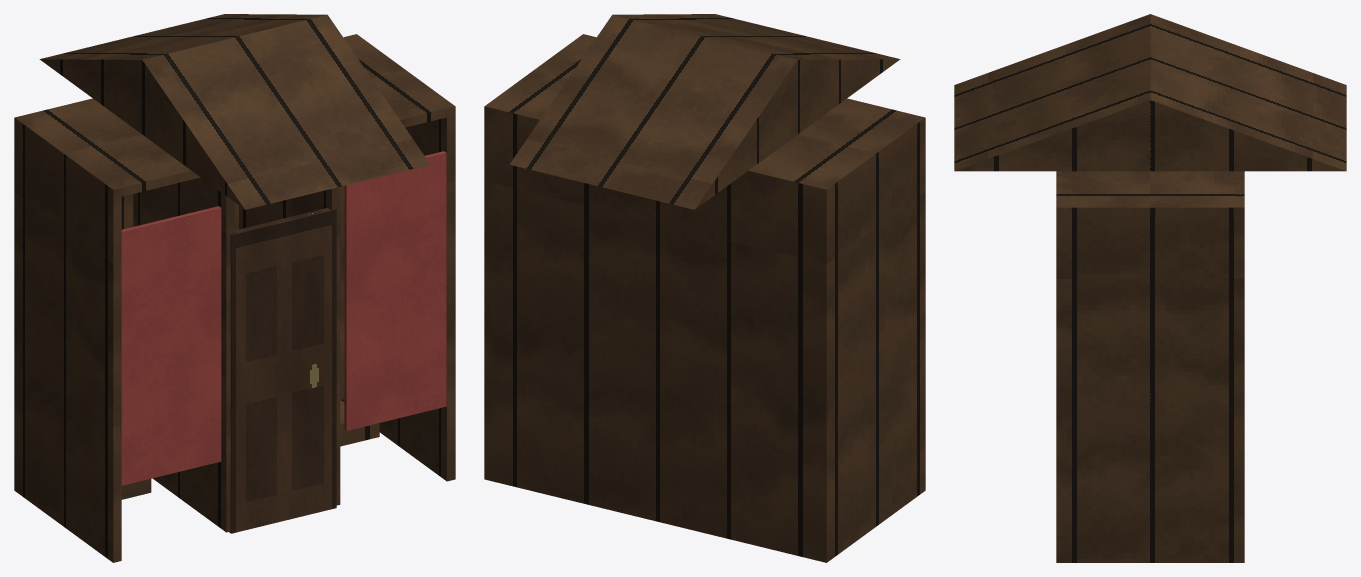
File: int_confession_booth.glb
3 views of the same model, side by side, from view 1: azimuth 30°, elevation 25°; view 2: azimuth 150°, elevation 25°; view 3: azimuth 270°, elevation 25° (orthographic). The views are drawn at different scales.
Parts seen in each view (by area): view 1: booth-col, detail; view 2: booth-col, detail; view 3: booth-col, detail.
Boxes of the visible parts, x1=… form: booth-col: x1=14, y1=34, x2=455, y2=562; detail: x1=39, y1=14, x2=446, y2=499; booth-col: x1=484, y1=34, x2=925, y2=562; detail: x1=509, y1=14, x2=900, y2=209; booth-col: x1=1056, y1=171, x2=1244, y2=562; detail: x1=954, y1=14, x2=1346, y2=171.
Size of what is drawn, in the model's own units: 2.4 by 3 by 2.5.
Materials: 4 (4 with a texture image).
